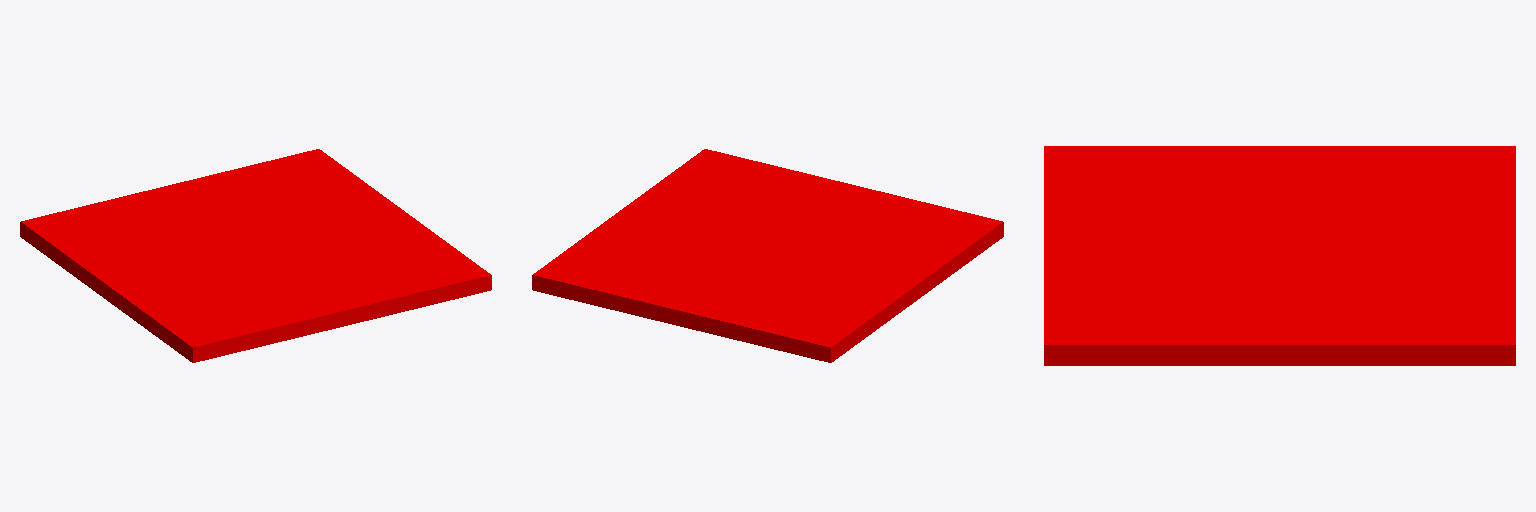
URDF robot description (pan_tilt):
<?xml version="1.0"?>
<robot name="pan_tilt">

	<!-- definire culori si transparenta -->
	<material name="white">
		<color rgba="1 1 1 1"/>
	</material>

	<material name="blue">
		<color rgba="0 0 1 0.5"/>
	</material>

	<material name="yellow">
		<color rgba="1 1 0 1"/>
	</material>

	<material name="red">
		<color rgba="1 0 0 0.8"/>
	</material>


	<!-- baza robotului -->
	<link name="base_link">

		<!-- baza robotului VIZUAL-->
		<visual>

			<!-- baza robotului GEOMETRIE-->
			<geometry>
				<box size="1 1 0.05"/>
			</geometry>
			<material name="red"/>
			<origin rpy="0 0 0" xyz="0 0 0.025"/>

		</visual>

	</link>


</robot>

--- What the picture shows (computed from the rendered views, not written in the file) ---
3 views of the same robot in one strip: view 1: azimuth 30°, elevation 25°; view 2: azimuth 150°, elevation 25°; view 3: azimuth 270°, elevation 25° (orthographic).
Robot: pan_tilt — 1 links, 0 joints (none); root link base_link; default pose: every joint at zero.
Visible links, largest first — view 1: base_link; view 2: base_link; view 3: base_link.
Boxes of the visible links, x1=… form: base_link: x1=20, y1=149, x2=491, y2=362; base_link: x1=532, y1=149, x2=1003, y2=362; base_link: x1=1044, y1=146, x2=1515, y2=365.
Bounding box of the posed robot: 1 × 1 × 0.05 m (x, y, z).
Geometry: primitives only (box / cylinder / sphere), no mesh files.